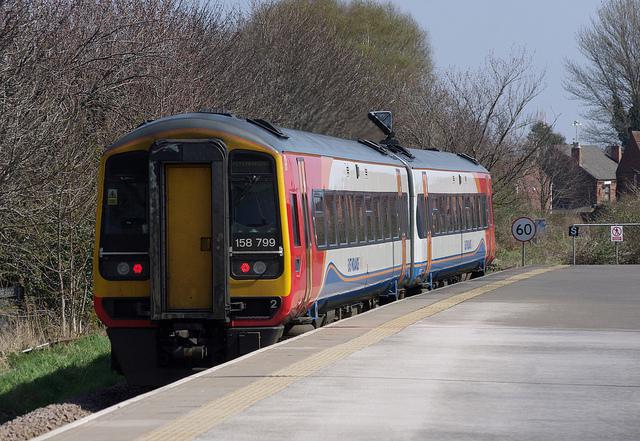Train: (92, 111, 497, 387)
